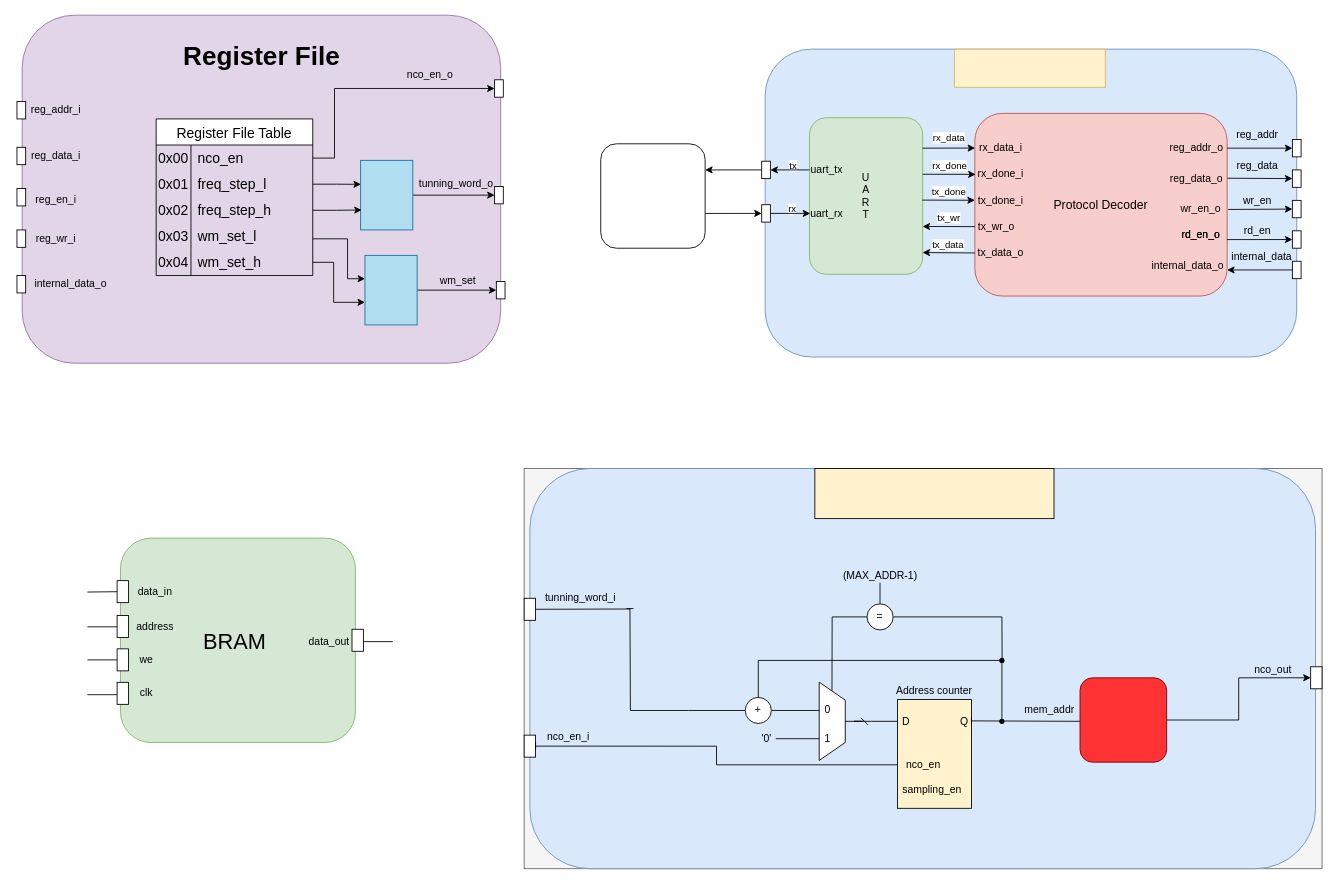
Some shapes in this 1338 by 884 pixel diagram are drawn without their labels. Each missing label, with the centre of its shape:
Communication Interface: point (1029, 67)
NCO: point (934, 493)
PC: point (652, 195)
Sinus LUT: point (1123, 719)
